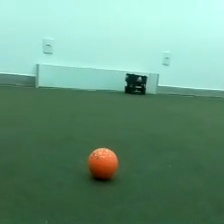ball: (85, 144, 121, 182)
goal: (32, 62, 160, 95)
robot: (122, 71, 148, 96)
